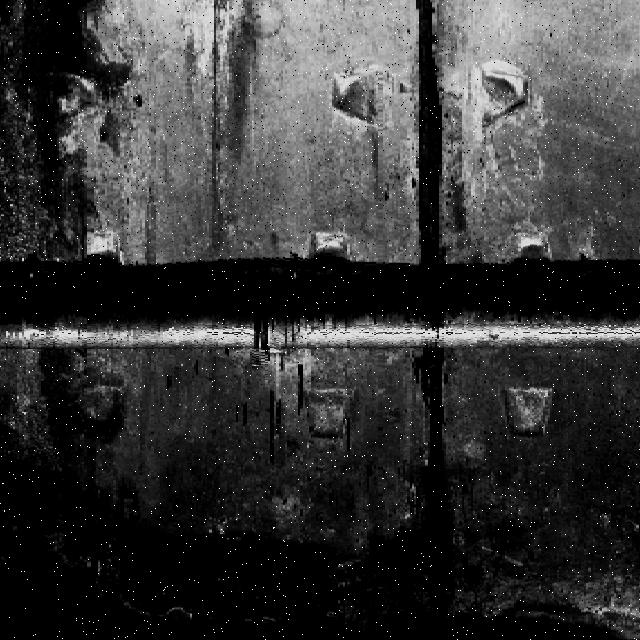leakage: (3, 471, 396, 640), (0, 6, 132, 260), (407, 346, 460, 615), (408, 1, 448, 272)
